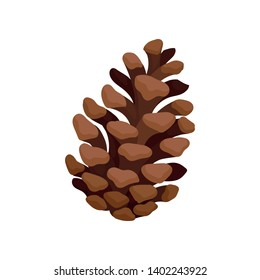Pc: (66, 38, 194, 219)
